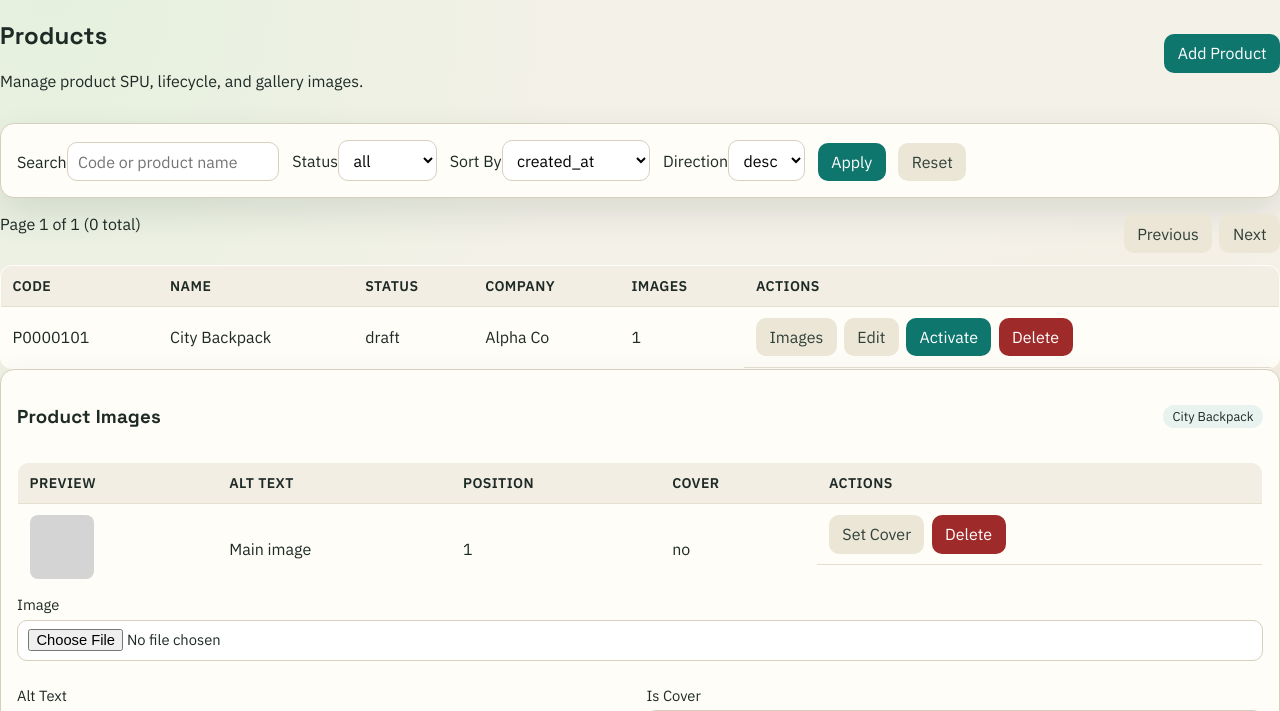
ProductsPage taxonomy form › shows error when loading product for edit fails
The image size is (1280, 711).
Expected: the text "P0000101" is shown, [0,306,158,368]
Click the button "Edit".
click(871, 337)  # box [844,318,899,356]
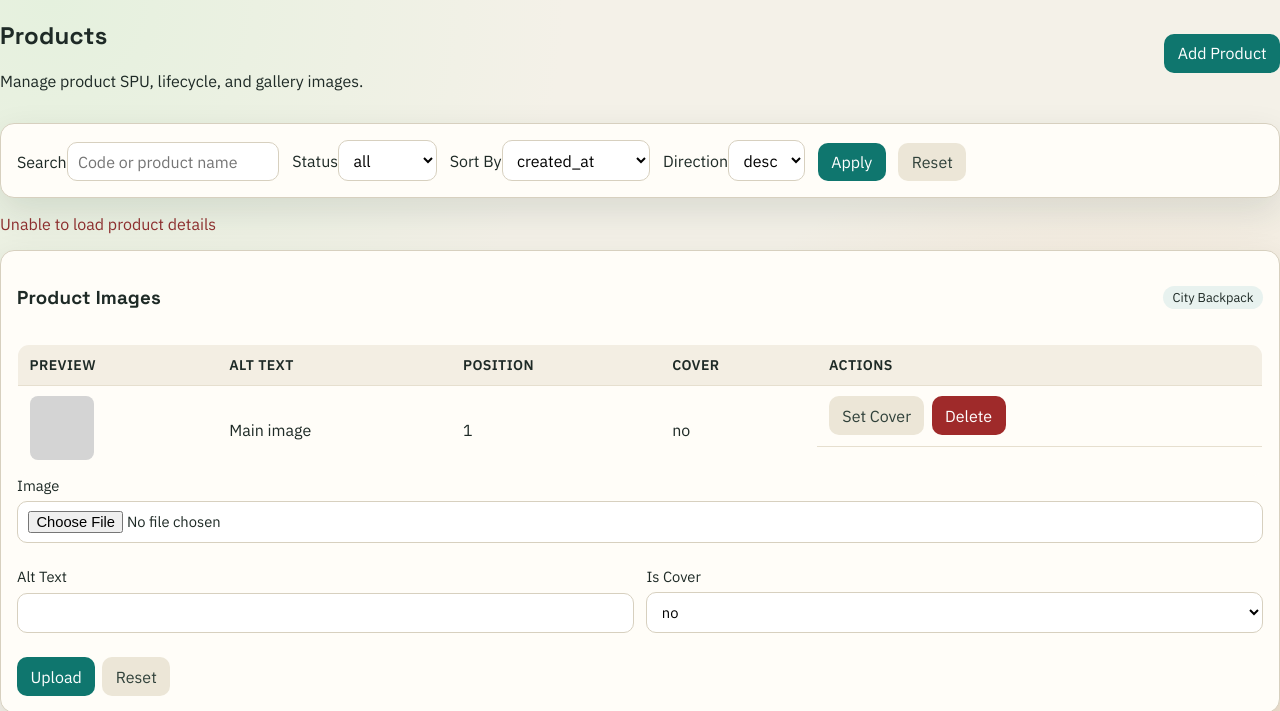
Now the text "Unable to load product details" is shown, box [0,214,216,234]
